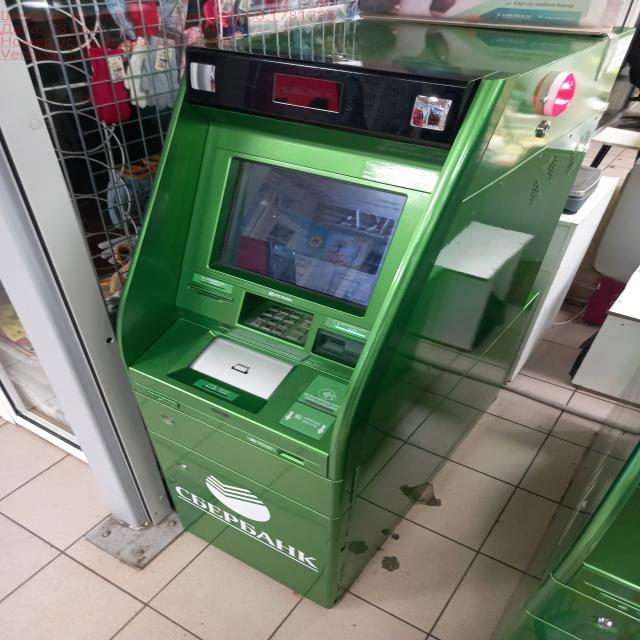bank: (123, 14, 613, 605), (503, 367, 640, 640)
